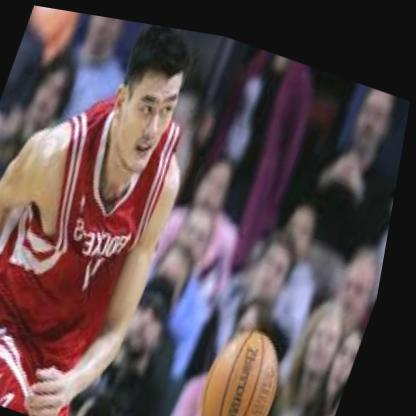basketball: (199, 309, 304, 416)
